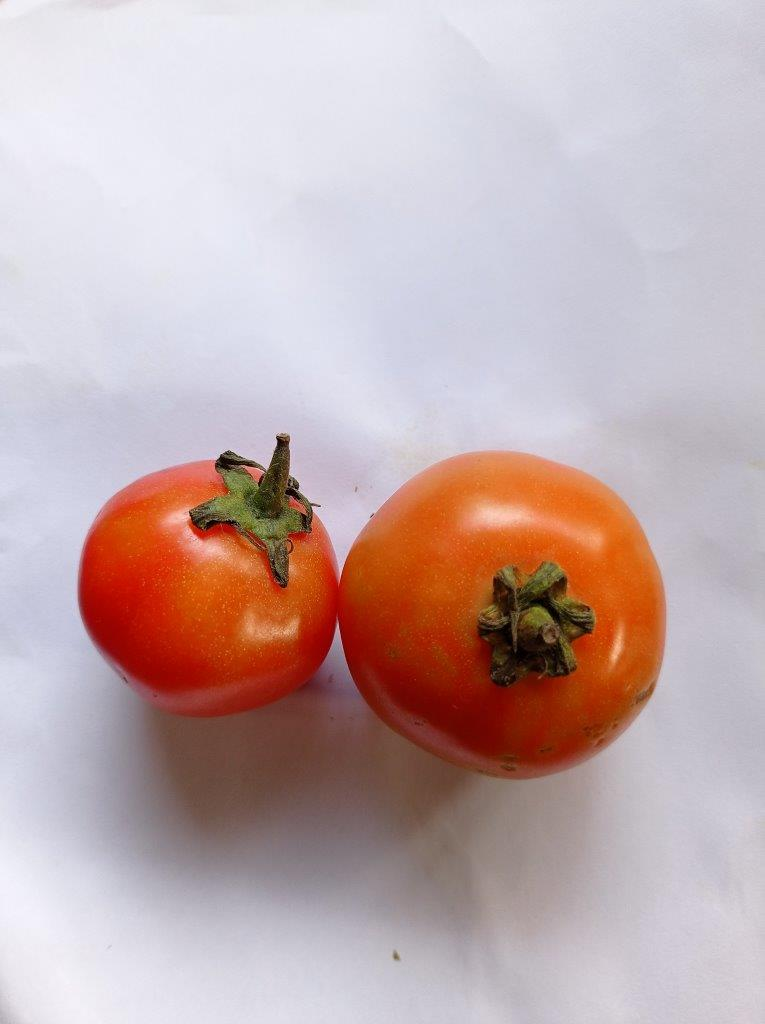tomato: (339, 451, 664, 779), (80, 435, 337, 716)
